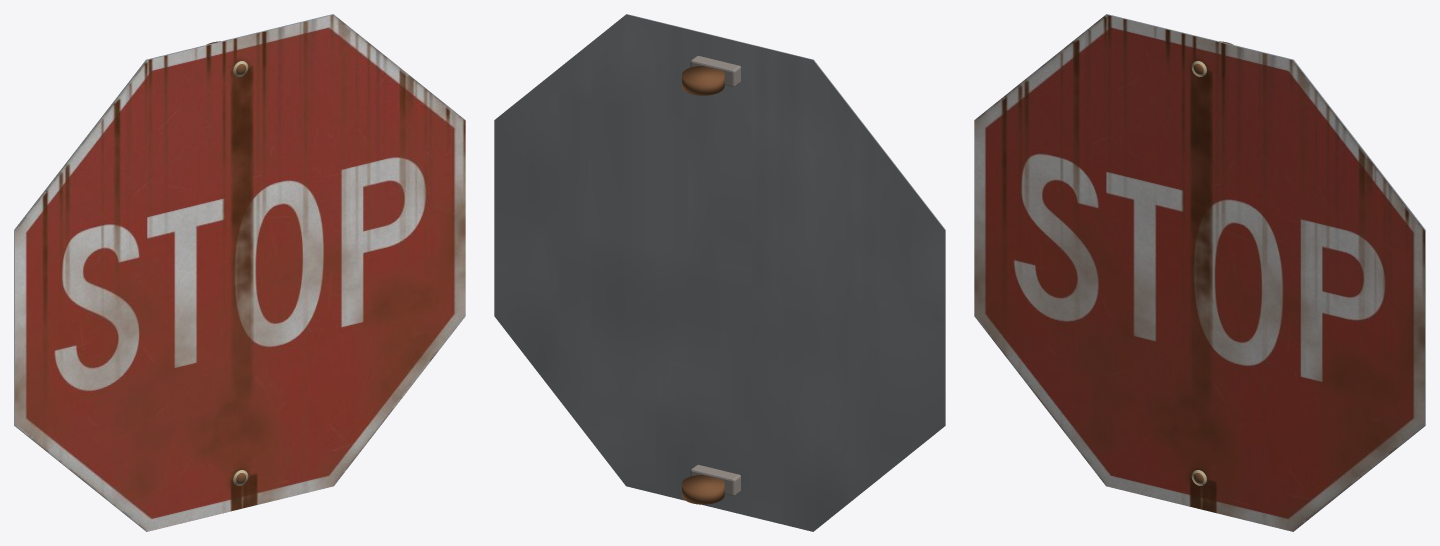
The model's file is stop-v1-rusty.glb.
3 views of the same model, side by side, from view 1: azimuth 30°, elevation 25°; view 2: azimuth 150°, elevation 25°; view 3: azimuth 330°, elevation 25° (orthographic).
Visible parts, largest first — view 1: stop-v1-rusty; view 2: stop-v1-rusty; view 3: stop-v1-rusty.
Part boxes in pixels (x1,y1,x2,y2): stop-v1-rusty: [14, 14, 465, 531]; stop-v1-rusty: [494, 14, 945, 531]; stop-v1-rusty: [974, 14, 1425, 531].
Bounding box in the file's own units: 0.762 × 0.762 × 0.0871.
1 material, 1 textured.
